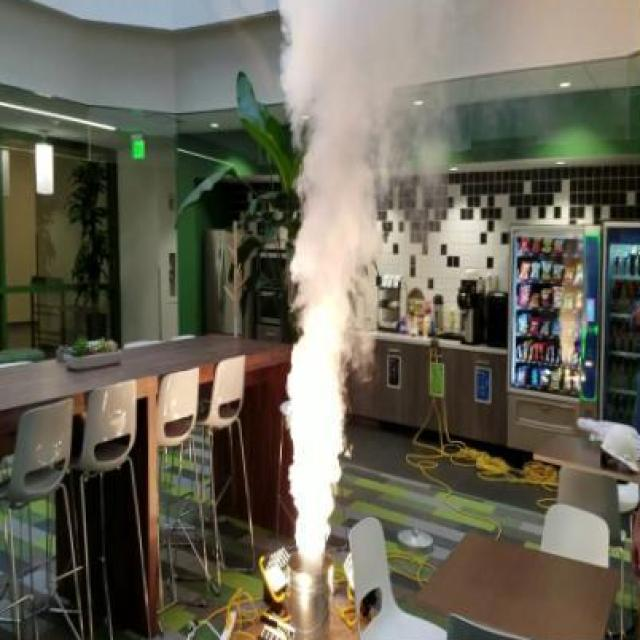fire: (282, 116, 379, 545), (275, 0, 497, 116)
